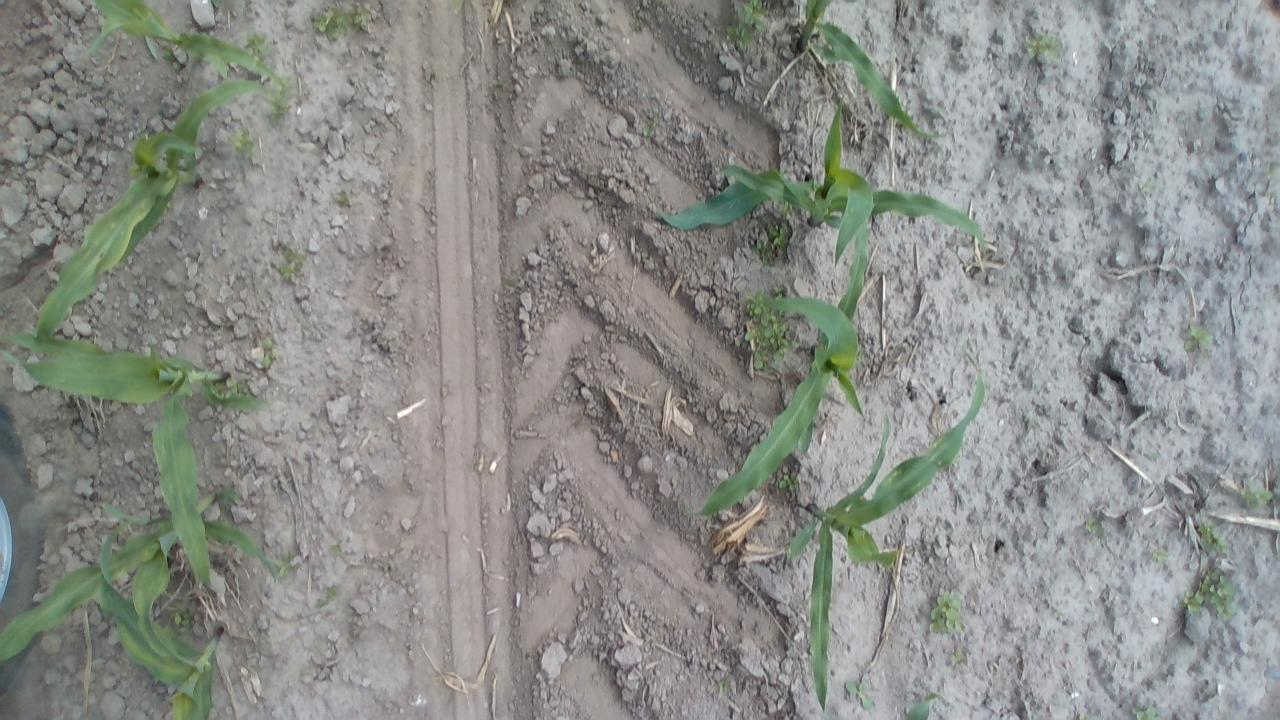Maize: (1, 312, 273, 610), (780, 356, 991, 714), (24, 75, 280, 360), (645, 103, 999, 298), (693, 194, 879, 516), (0, 483, 289, 656), (92, 523, 234, 720), (787, 0, 941, 150), (76, 0, 298, 92), (898, 691, 942, 720)
Weeds: (738, 295, 794, 377), (1182, 562, 1240, 623), (307, 2, 374, 42), (722, 0, 770, 55), (924, 588, 970, 640), (752, 219, 791, 268), (1180, 318, 1218, 358), (1021, 29, 1062, 65), (1193, 520, 1232, 557), (274, 243, 308, 284), (842, 674, 878, 712), (1241, 477, 1277, 511), (1082, 507, 1116, 541), (242, 29, 274, 64), (228, 127, 262, 158), (265, 84, 290, 126), (270, 548, 300, 580), (167, 602, 195, 633), (258, 334, 282, 370), (774, 470, 804, 498), (1125, 701, 1163, 720), (1147, 542, 1173, 569), (627, 7, 648, 36), (316, 582, 339, 608), (224, 376, 251, 397), (640, 116, 659, 143), (334, 187, 356, 210), (946, 648, 972, 666), (714, 674, 736, 695), (327, 540, 348, 560), (1138, 175, 1158, 195), (446, 0, 468, 15), (1261, 162, 1276, 184)
